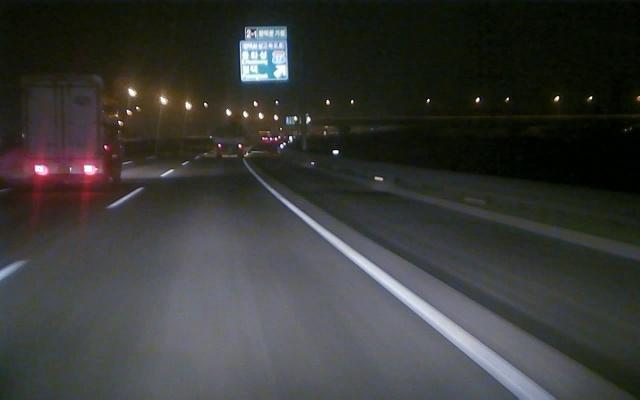lane: (264, 184, 556, 399), (0, 169, 173, 282)
